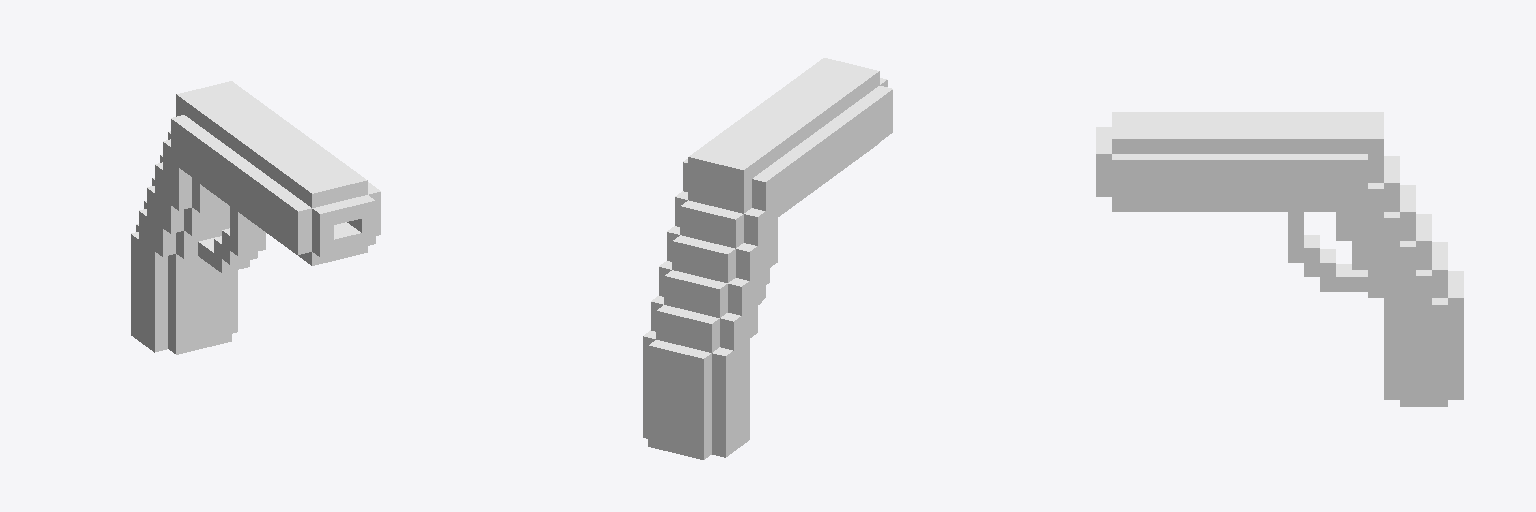
The model's file is GunTest.obj.
The picture shows the model from 3 angles: view 1: azimuth 30°, elevation 25°; view 2: azimuth 150°, elevation 25°; view 3: azimuth 270°, elevation 25°; orthographic projection.
Bounding box in the file's own units: 6 × 18 × 23.